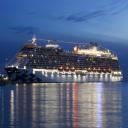cruises: (5, 35, 125, 85)
